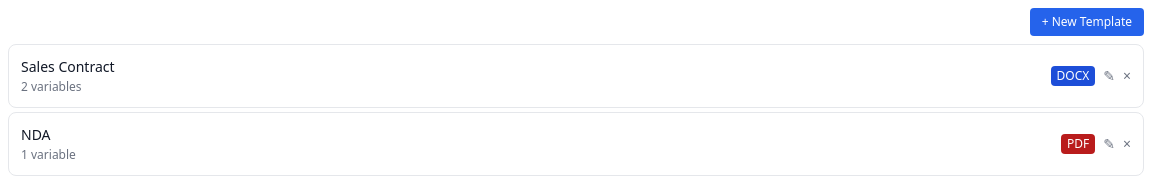
Test case: Library › deletes template and removes from list
Expected: the text "Sales Contract" is shown, [21,57,115,76]
Click the button named "delete": [1127, 76] box [1123,66,1131,86]
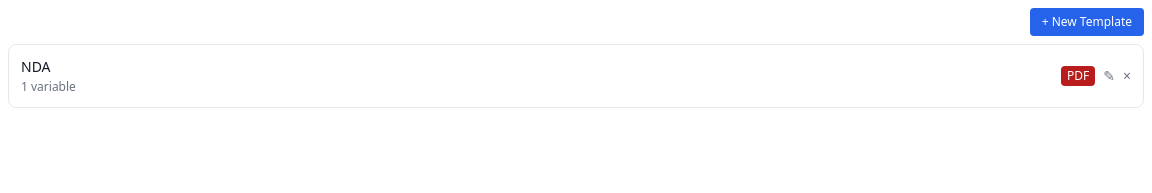
Expected: the text "Sales Contract" is gone
